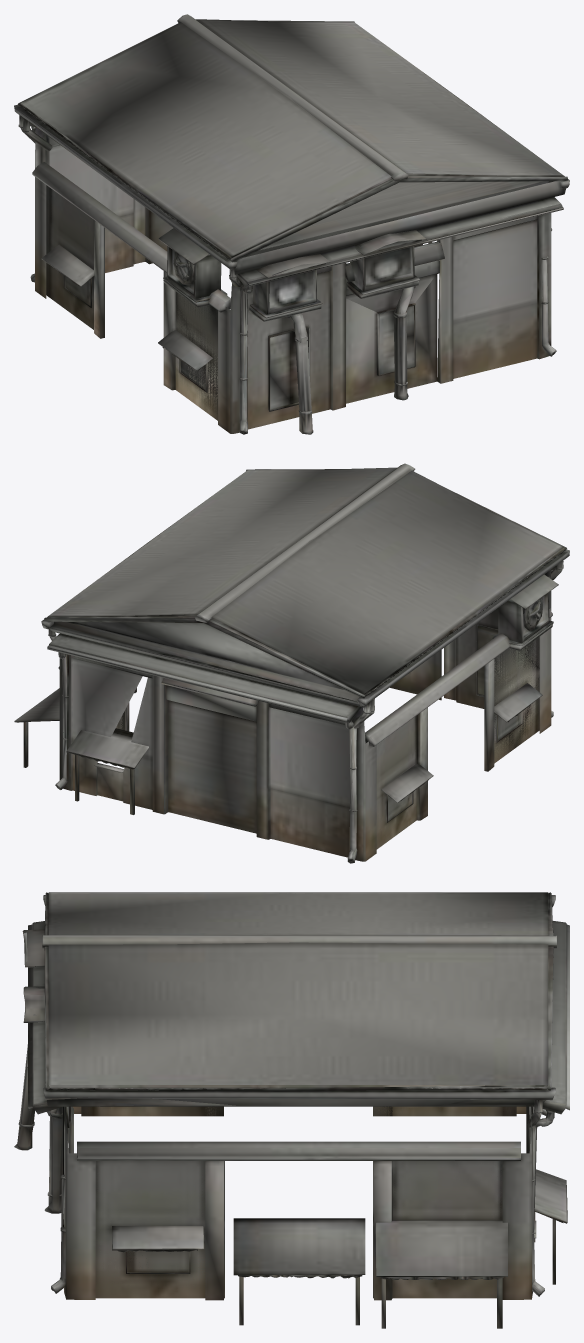
The model's file is war_factory.glb.
3 views of the same model, one above another, from view 1: azimuth 30°, elevation 25°; view 2: azimuth 150°, elevation 25°; view 3: azimuth 270°, elevation 25° (orthographic). The views are drawn at different scales.
Parts seen in each view (by area): view 1: Body; view 2: Body; view 3: Body.
Part boxes in pixels (x1,y1,x2,y2): Body: (14, 14, 569, 434); Body: (14, 463, 569, 863); Body: (14, 892, 569, 1328).
Size of the model in its own units: 8.54 by 4.65 by 8.64.
Materials: 1 (1 with a texture image).
